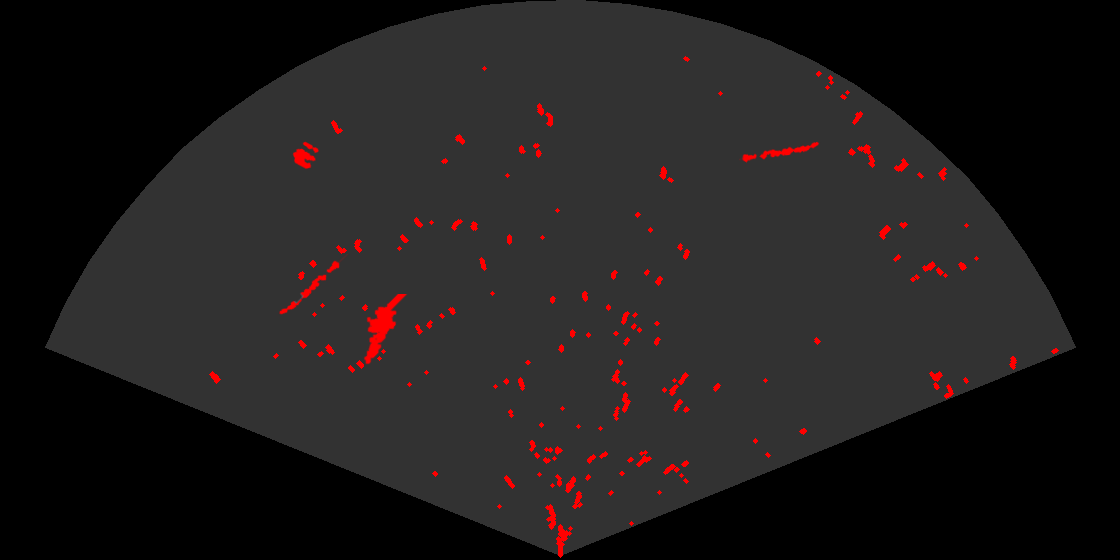ball: (291, 140, 320, 171)
chain: (278, 254, 350, 316), (739, 140, 821, 164)
frogman: (362, 294, 409, 366)
